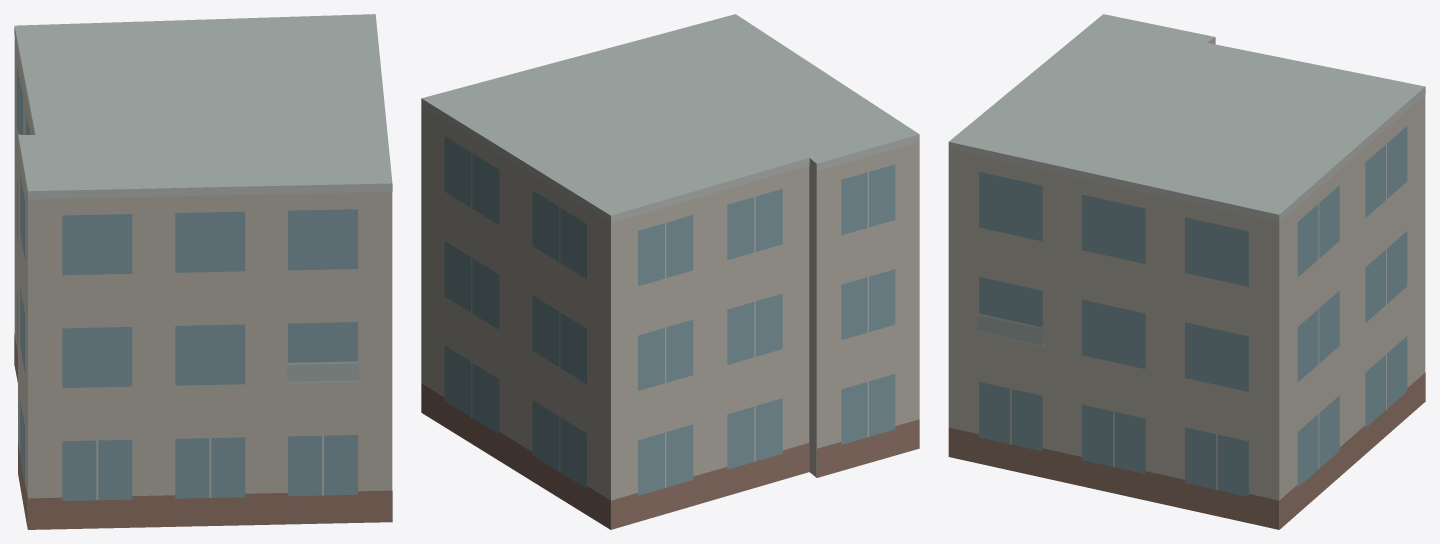
File: survey-upis-32527256.glb
3 renders of one model, left to right at view 1: azimuth 30°, elevation 25°; view 2: azimuth 150°, elevation 25°; view 3: azimuth 270°, elevation 25°, orthographic. The views are drawn at different scales.
Parts seen in each view (by area): view 1: survey-upis-32527256.tmp; view 2: survey-upis-32527256.tmp; view 3: survey-upis-32527256.tmp.
Boxes of the visible parts, x1,y1,x2,y2 form: survey-upis-32527256.tmp: (14,14,392,529); survey-upis-32527256.tmp: (421,14,919,529); survey-upis-32527256.tmp: (948,14,1425,529).
Bounding box in the file's own units: 13.68 × 10 × 13.73.
